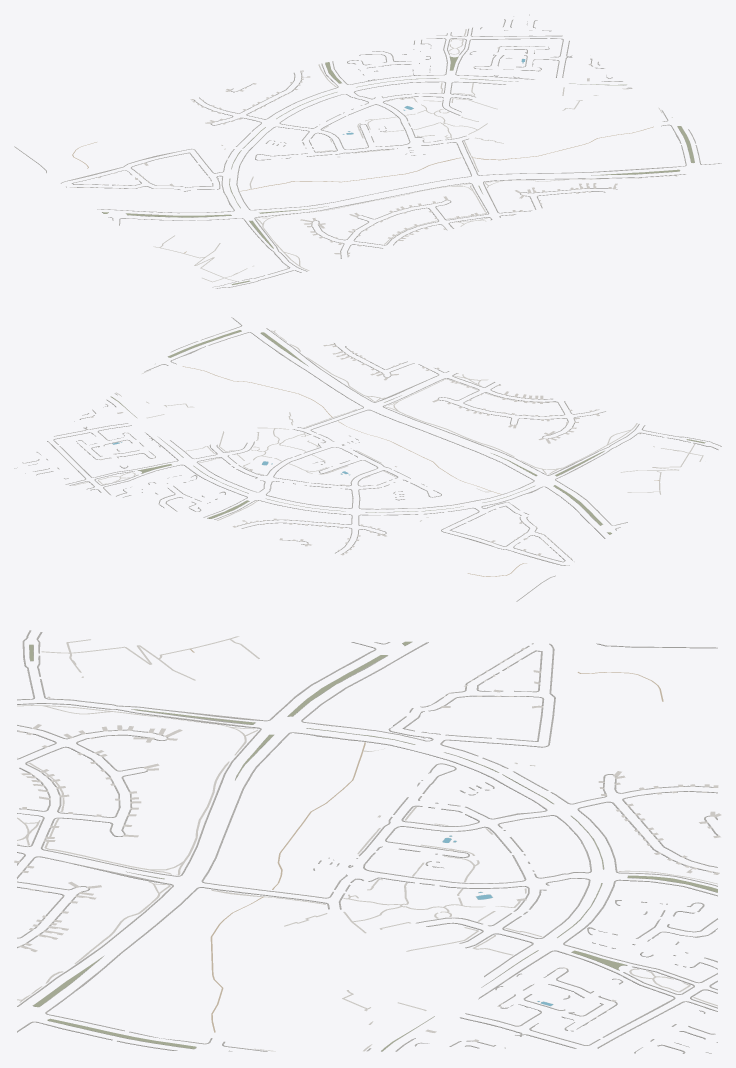
Rendered from ground_r3_c4.glb.
3 renders of one model, top to bottom at view 1: azimuth 30°, elevation 25°; view 2: azimuth 150°, elevation 25°; view 3: azimuth 270°, elevation 25°, orthographic. The views are drawn at different scales.
Visible parts, largest first — view 1: sidewalks, paths, medians, driveways; view 2: sidewalks, paths, medians, driveways; view 3: sidewalks, paths, medians, driveways.
Part boxes in pixels (bbox=[...]): sidewalks: bbox=[14, 14, 721, 288]; paths: bbox=[72, 29, 678, 282]; medians: bbox=[102, 56, 694, 285]; driveways: bbox=[74, 46, 617, 256]; sidewalks: bbox=[14, 317, 721, 601]; paths: bbox=[72, 330, 703, 576]; medians: bbox=[110, 330, 705, 534]; driveways: bbox=[82, 343, 599, 558]; sidewalks: bbox=[17, 630, 717, 1053]; paths: bbox=[17, 636, 717, 1051]; medians: bbox=[29, 641, 717, 1051]; driveways: bbox=[14, 648, 721, 1041].
Bounding box in the file's own units: 1126 × 30.86 × 795.
